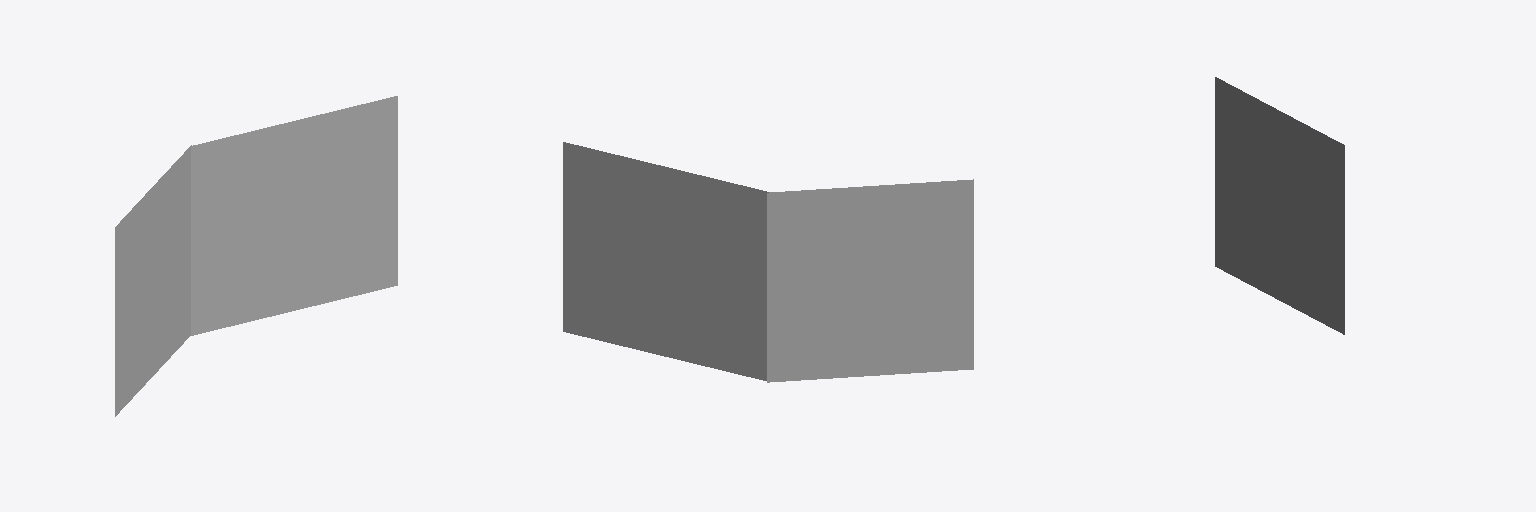
The model's file is CliffWall.obj.
The picture shows the model from 3 angles: view 1: azimuth 30°, elevation 25°; view 2: azimuth 150°, elevation 25°; view 3: azimuth 270°, elevation 25°; orthographic projection.
Visible parts, largest first — view 1: pPlane5, pPlane4; view 2: pPlane4, pPlane5; view 3: pPlane4.
Boxes of the visible parts, box(x1,y1,x2,y2) form: pPlane5: box(191, 96, 397, 335); pPlane4: box(115, 145, 191, 416); pPlane4: box(767, 179, 973, 382); pPlane5: box(563, 142, 768, 380); pPlane4: box(1215, 77, 1344, 334).
Bounding box in the file's own units: 56.89 × 29.75 × 18.56.